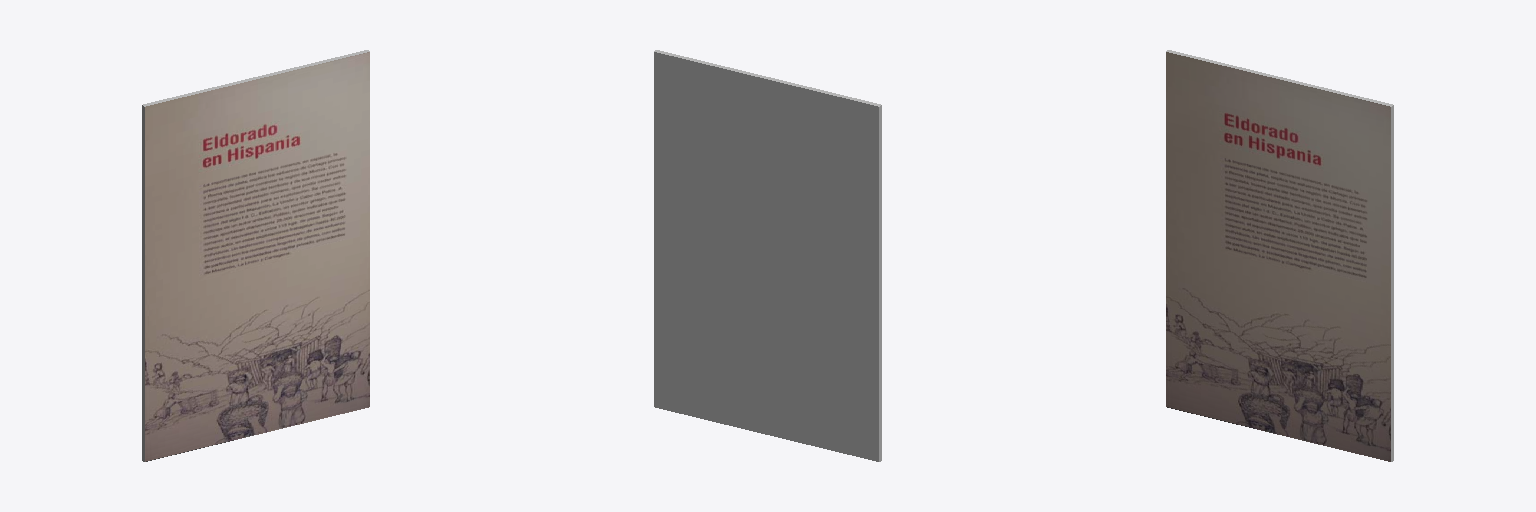
The picture shows the model from 3 angles: view 1: azimuth 30°, elevation 25°; view 2: azimuth 150°, elevation 25°; view 3: azimuth 330°, elevation 25°; orthographic projection.
Parts seen in each view (by area): view 1: SketchUp.001_ID10, SketchUp_ID2; view 2: SketchUp_ID2; view 3: SketchUp.001_ID10, SketchUp_ID2.
Boxes of the visible parts, <box> form: SketchUp.001_ID10: <box>145,52,369,461</box>; SketchUp_ID2: <box>142,50,369,461</box>; SketchUp_ID2: <box>654,50,881,461</box>; SketchUp.001_ID10: <box>1166,52,1390,461</box>; SketchUp_ID2: <box>1166,50,1393,461</box>.
Size of the model in its own units: 188 by 283 by 3.94.
2 materials, 1 textured.